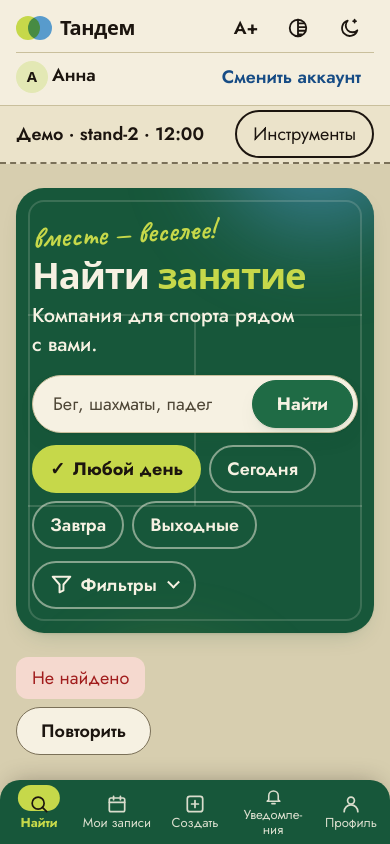
Test: демо-панель: ошибки, фокус, мобильный экран › на мобильном инструменты свёрнуты под кнопкой «Инструменты» с aria-expanded
Expected: the text "Демо · stand-2 · 12:00" is shown, [16, 121, 204, 147]
Click the button "Инструменты".
click(305, 134)  # box [235, 110, 374, 158]
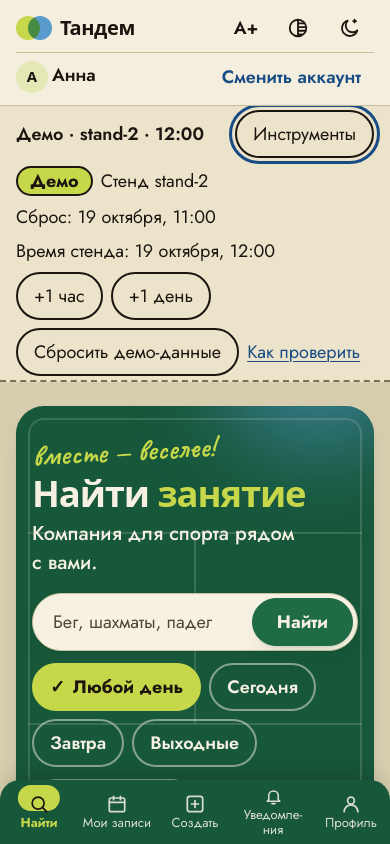
Result: the button "Инструменты" is expanded at [235, 110, 374, 158]
Result: the button "+1 час" is shown at [16, 272, 103, 320]
